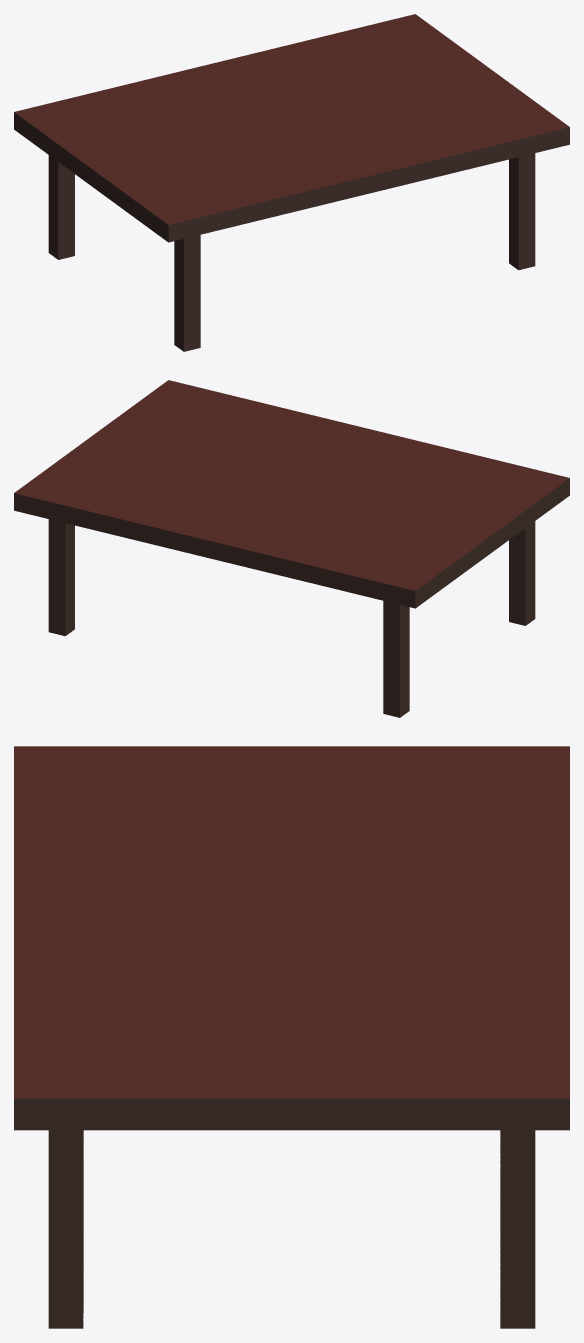
File: Table.gltf
The picture shows the model from 3 angles, top to bottom: view 1: azimuth 30°, elevation 25°; view 2: azimuth 150°, elevation 25°; view 3: azimuth 270°, elevation 25°; orthographic projection. The views are drawn at different scales.
Parts seen in each view (by area): view 1: top, mesh (×3); view 2: top, mesh (×3); view 3: top, mesh (×2).
Boxes of the visible parts, box(x1,y1,x2,y2) form: top: box(14, 14, 569, 242); mesh (×3): box(48, 153, 535, 351); top: box(14, 380, 569, 608); mesh (×3): box(48, 519, 535, 717); top: box(14, 746, 569, 1130); mesh (×2): box(48, 1130, 535, 1328).
Bounding box in the file's own units: 3 × 1 × 2.
Materials: 1 (1 with a texture image).
